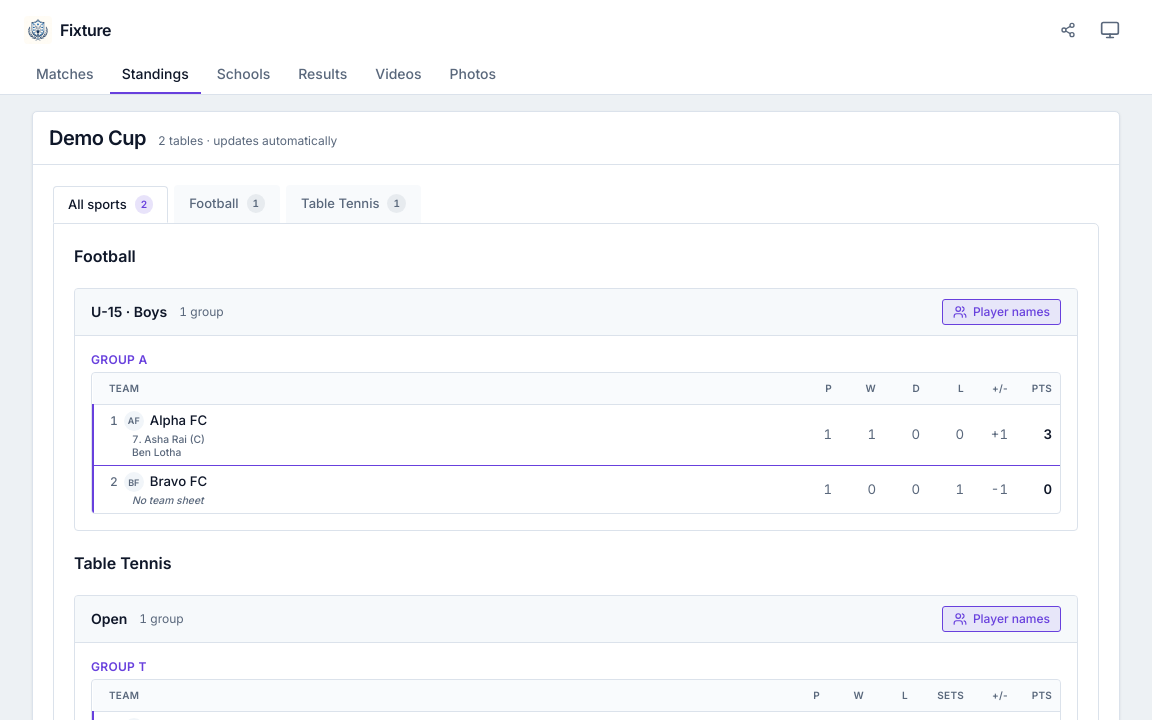
Test case: PublicStandingsPage › names every table's players by DEFAULT, each category on its own switch
The width and height of the screenshot is (1152, 720).
Expected: the list item "7. Asha Rai (C)" is shown, [132,432,205,444]
Expected: the row with test id "group-standing-tm1" shows "7. Asha Rai (C)", [93,404,1060,466]
Click the switch with test id "standings-names-toggle-football.u15" at (1001, 312), box [942,298,1061,324]
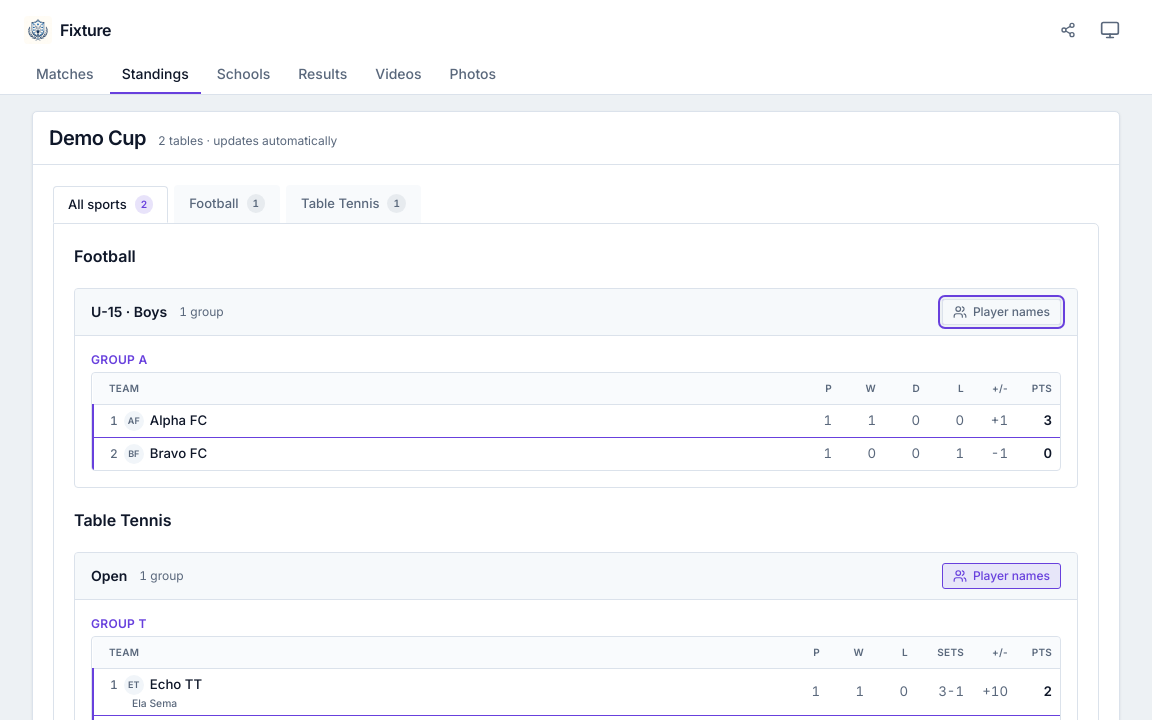
Expected: the row with test id "group-standing-tm5" shows "Ela Sema", [132,696,177,708]
Expected: the row with test id "group-standing-tm1" no longer shows "Asha Rai", [93,404,1060,437]
